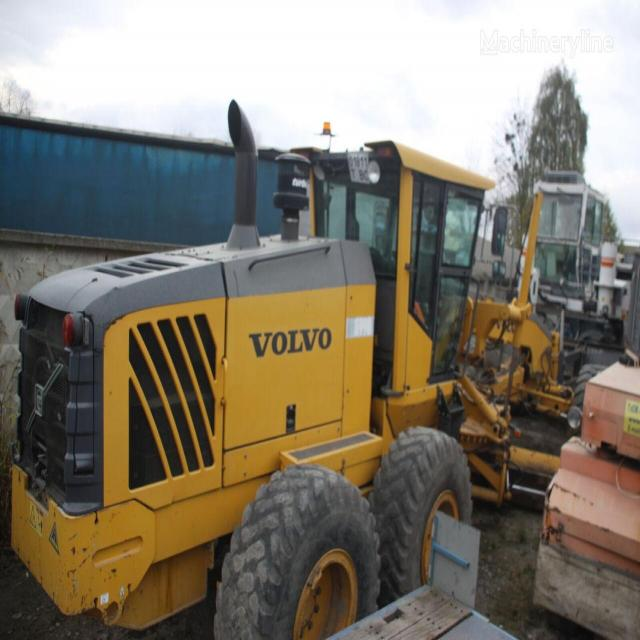Grader: (18, 82, 635, 625)
